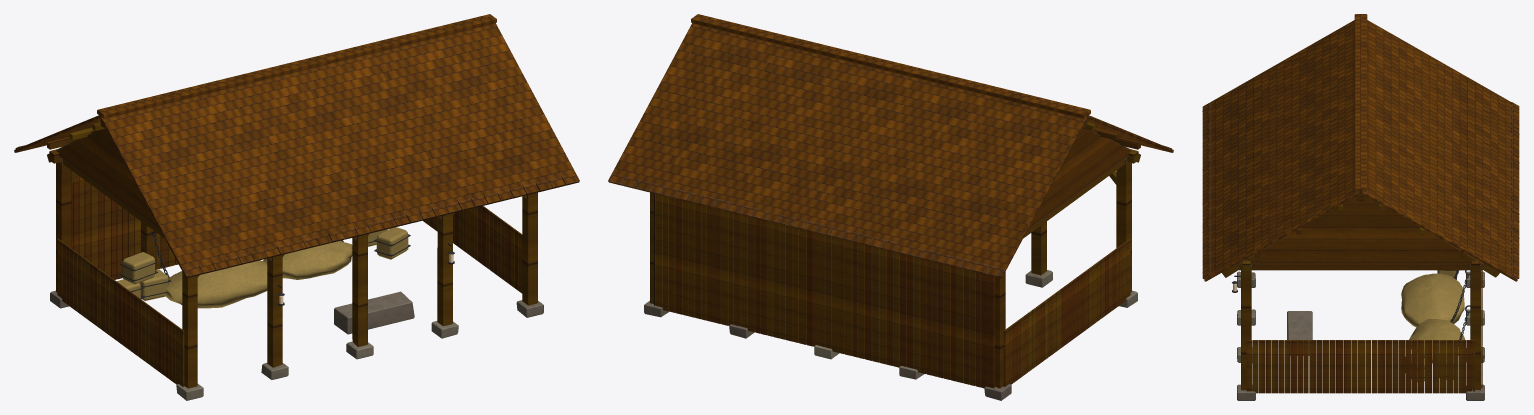
File: StallaDraghi.fbx
3 views of the same model, side by side, from view 1: azimuth 30°, elevation 25°; view 2: azimuth 150°, elevation 25°; view 3: azimuth 270°, elevation 25° (orthographic). The views are drawn at different scales.
Parts seen in each view (by area): view 1: Stalla_Tetto, Stalla_Assi, Stalla_Travi, Stalla_Fieno, Stalla_Pietra, Stalla_Ferro; view 2: Stalla_Tetto, Stalla_Assi, Stalla_Travi, Stalla_Pietra; view 3: Stalla_Tetto, Stalla_Assi, Stalla_Travi, Stalla_Fieno, Stalla_Pietra, Stalla_Ferro.
Part boxes in pixels (bbox=[...]): Stalla_Tetto: bbox=[14, 14, 579, 277]; Stalla_Assi: bbox=[56, 128, 522, 386]; Stalla_Travi: bbox=[47, 119, 537, 388]; Stalla_Fieno: bbox=[117, 227, 408, 308]; Stalla_Pietra: bbox=[50, 290, 543, 400]; Stalla_Ferro: bbox=[119, 231, 454, 305]; Stalla_Tetto: bbox=[608, 14, 1173, 277]; Stalla_Assi: bbox=[654, 128, 1131, 388]; Stalla_Travi: bbox=[650, 119, 1140, 388]; Stalla_Pietra: bbox=[644, 270, 1137, 400]; Stalla_Tetto: bbox=[1202, 14, 1519, 281]; Stalla_Assi: bbox=[1239, 195, 1482, 393]; Stalla_Travi: bbox=[1222, 193, 1499, 390]; Stalla_Fieno: bbox=[1401, 270, 1464, 381]; Stalla_Pietra: bbox=[1237, 271, 1484, 400]; Stalla_Ferro: bbox=[1232, 270, 1470, 378].
Bounding box in the file's own units: 1620 × 981 × 1245.
